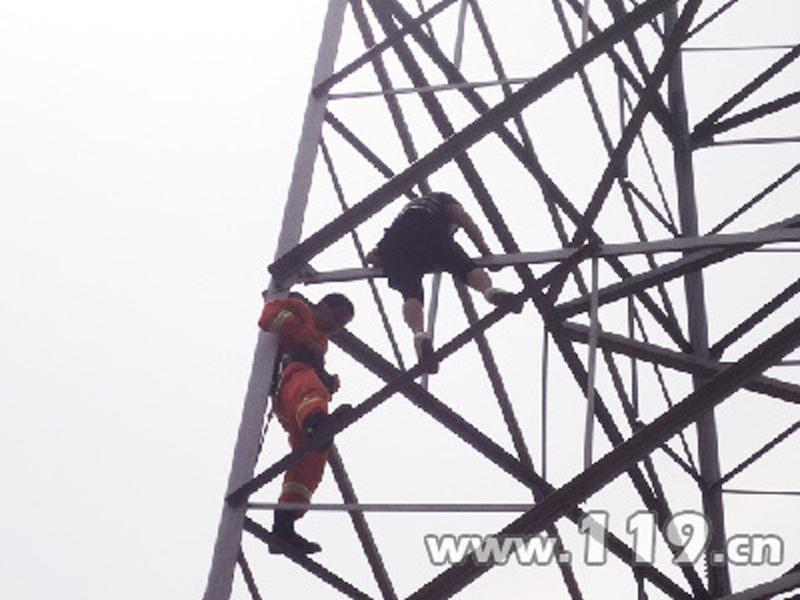power_tower: (185, 1, 797, 597)
